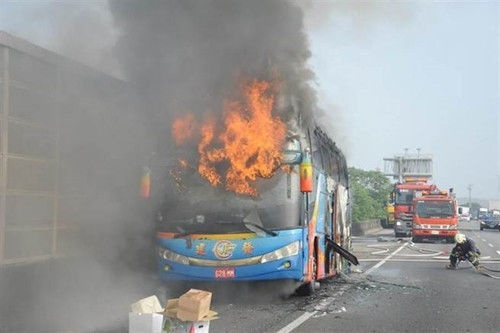fire: (172, 80, 293, 194)
